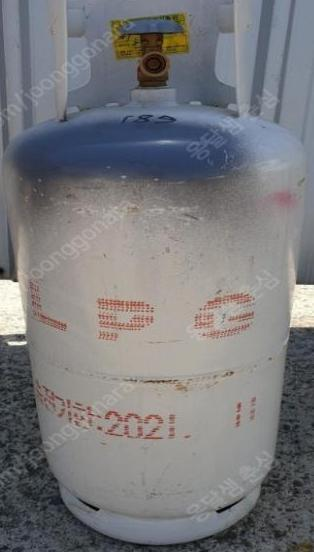cylinder: (1, 0, 314, 552)
